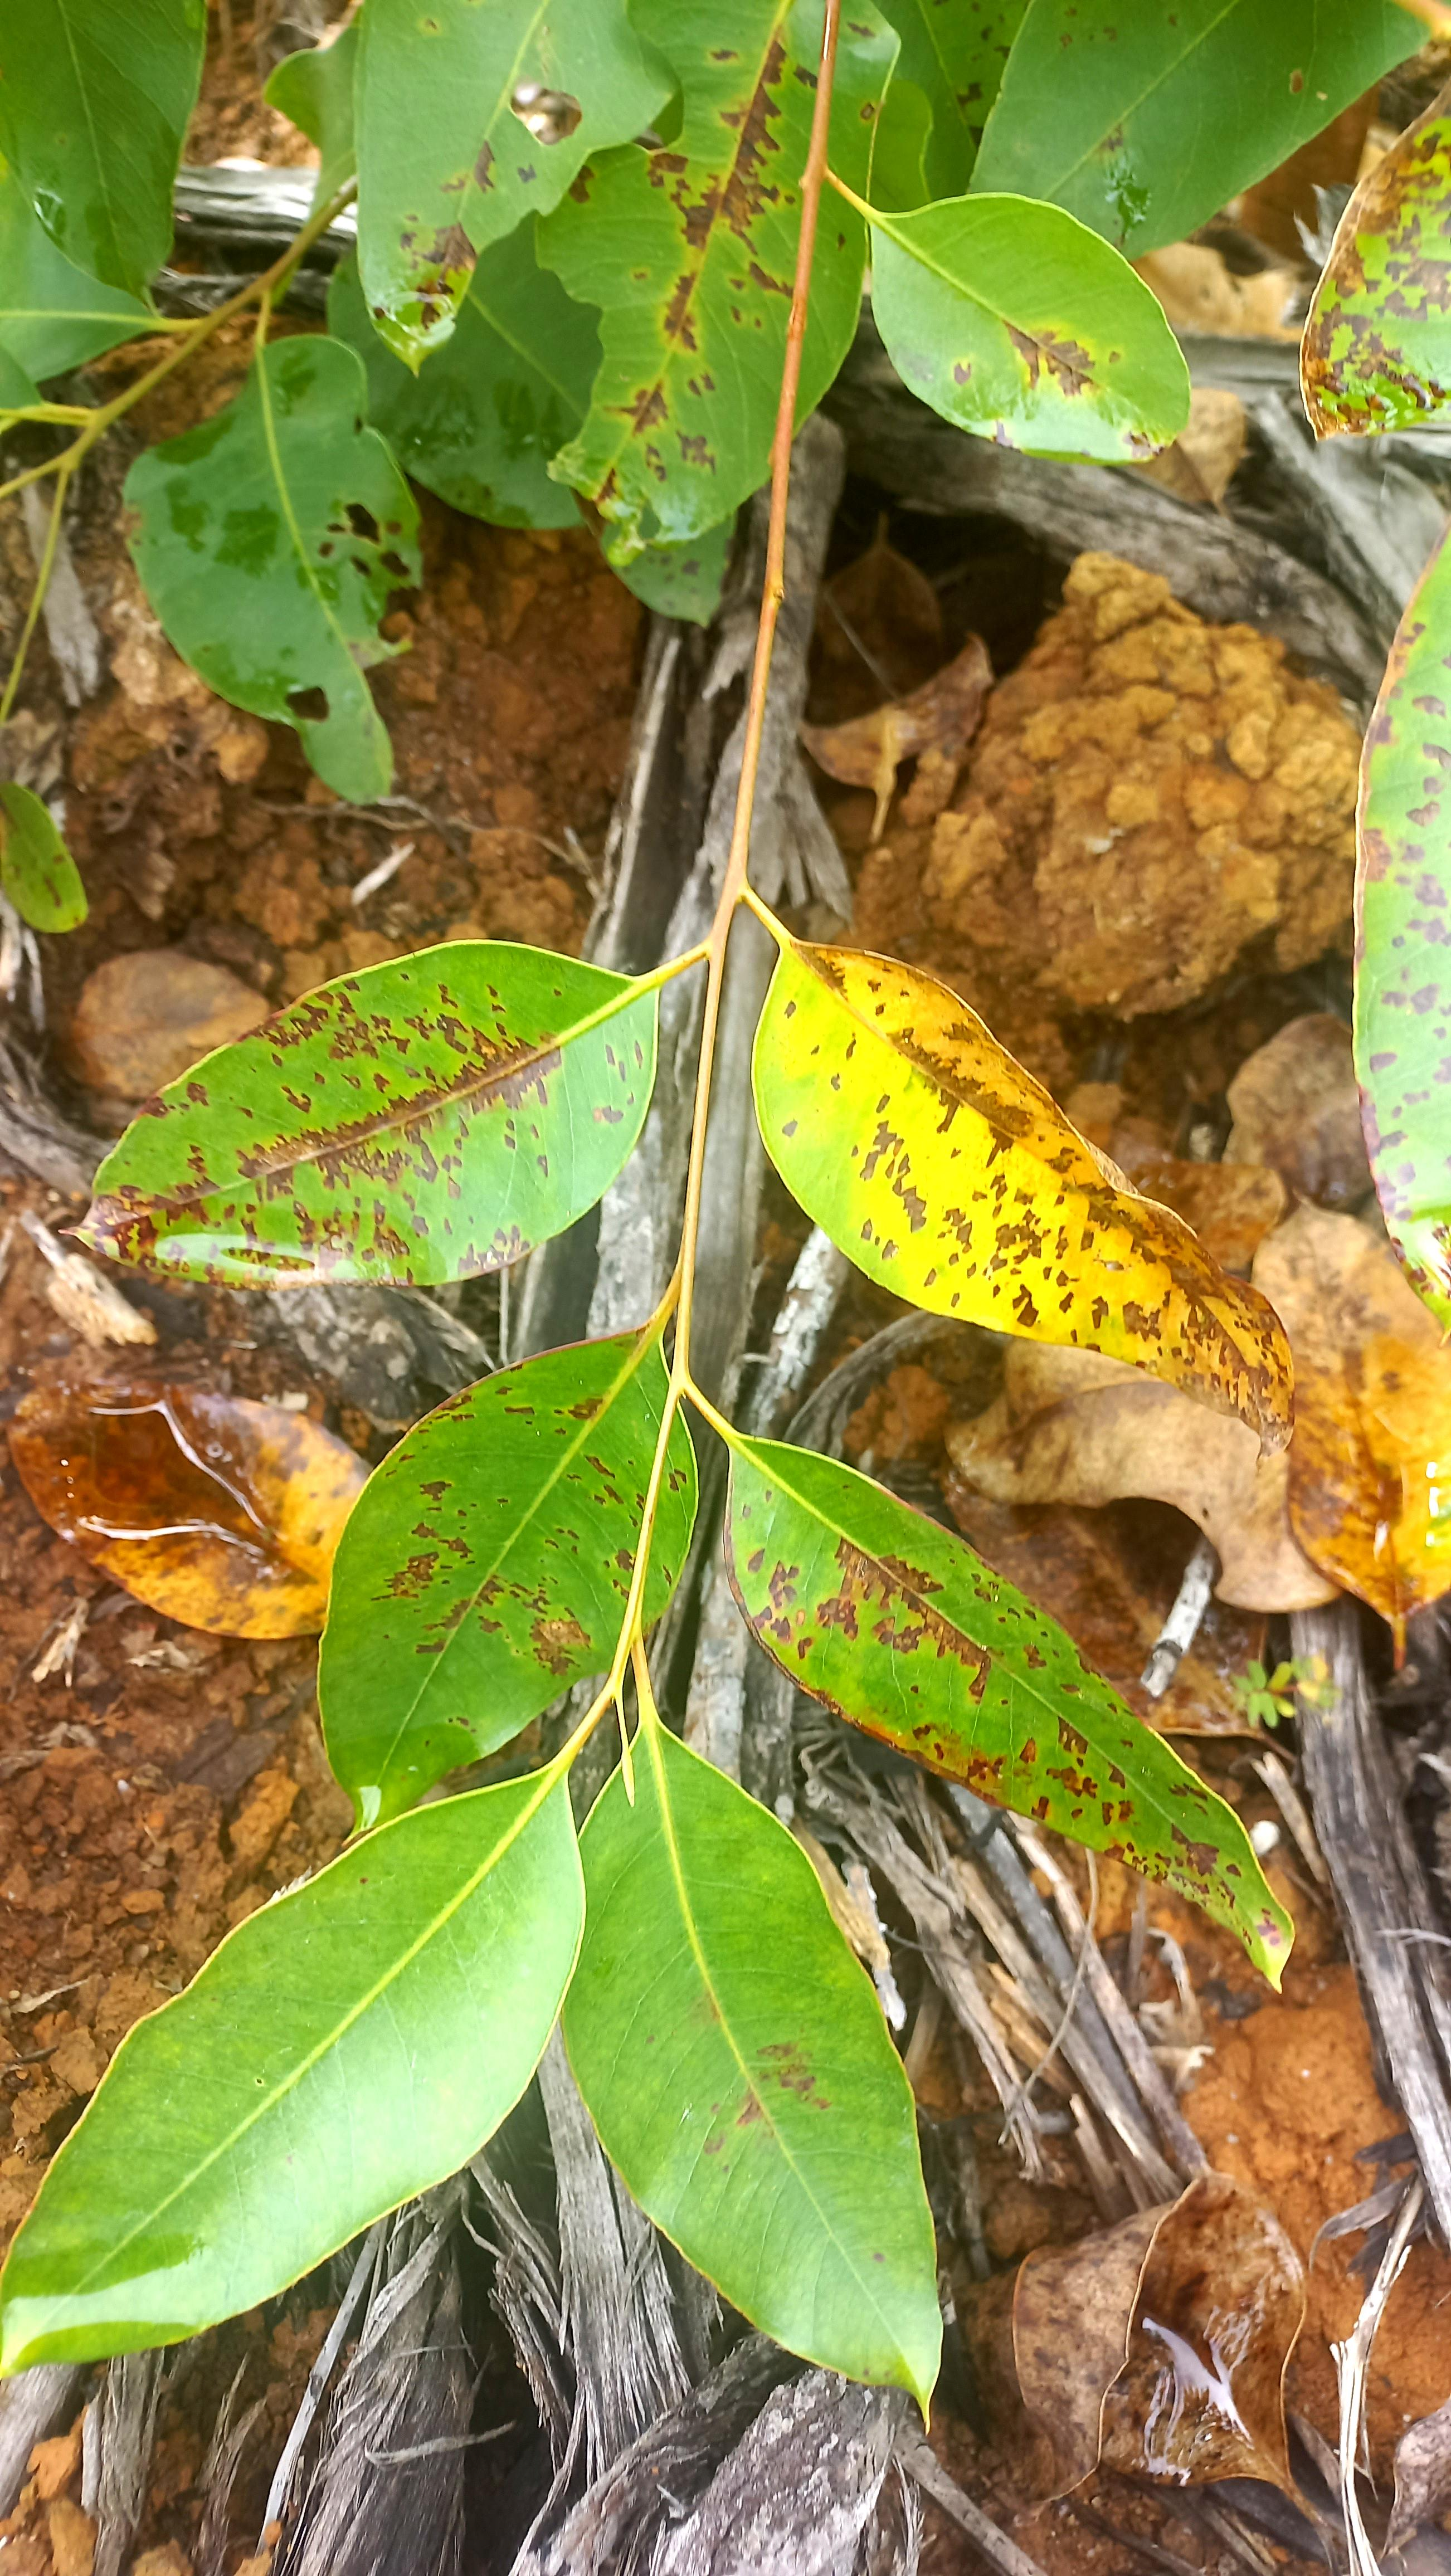Xanthomonas: (749, 1449, 1318, 1941), (775, 943, 1331, 1407), (78, 929, 671, 1348), (503, 14, 849, 552), (329, 1332, 676, 1808), (363, 11, 671, 375), (1355, 513, 1451, 1345), (1304, 90, 1451, 456)
